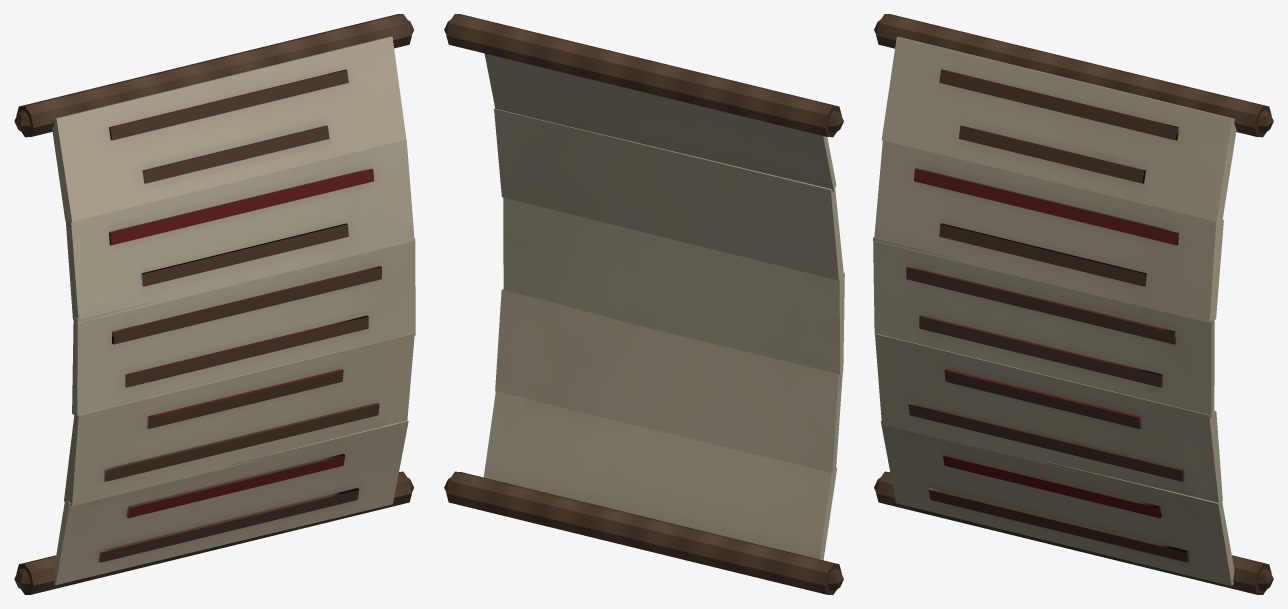
The model's file is scroll_open_01.glb.
3 renders of one model, left to right at view 1: azimuth 30°, elevation 25°; view 2: azimuth 150°, elevation 25°; view 3: azimuth 330°, elevation 25°, orthographic.
Visible parts, largest first — view 1: scroll_open_01; view 2: scroll_open_01; view 3: scroll_open_01.
Part boxes in pixels (<box>): scroll_open_01: <box>14,14,415,594</box>; scroll_open_01: <box>444,14,844,594</box>; scroll_open_01: <box>873,14,1273,594</box>.
Size of the model in its own units: 0.3742 by 0.4439 by 0.0692.
Materials: 4 (4 with a texture image).
